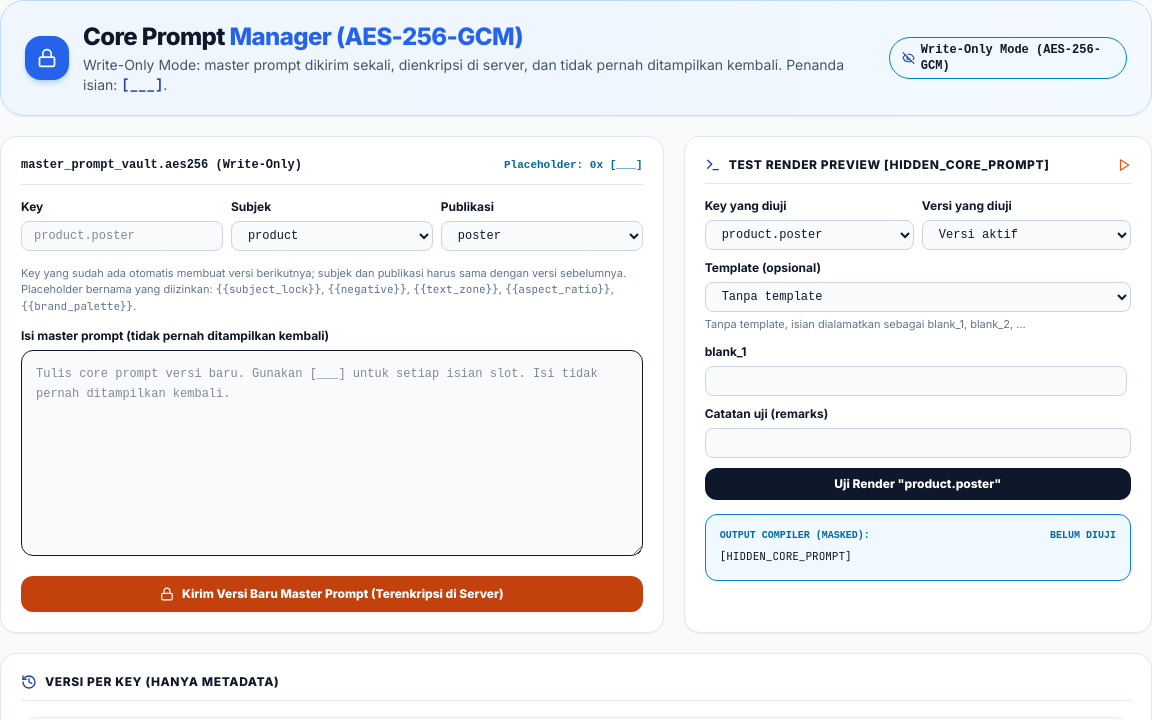
Scenario: CorePromptManager is write-only › shows only metadata and the masked literal in the versions list and the test render
This screenshot has width=1152, height=720.
Check: the column heading does not show "Isi"
Click the button "Uji Render \"product.poster\"": (918, 484) [705,468,1131,500]
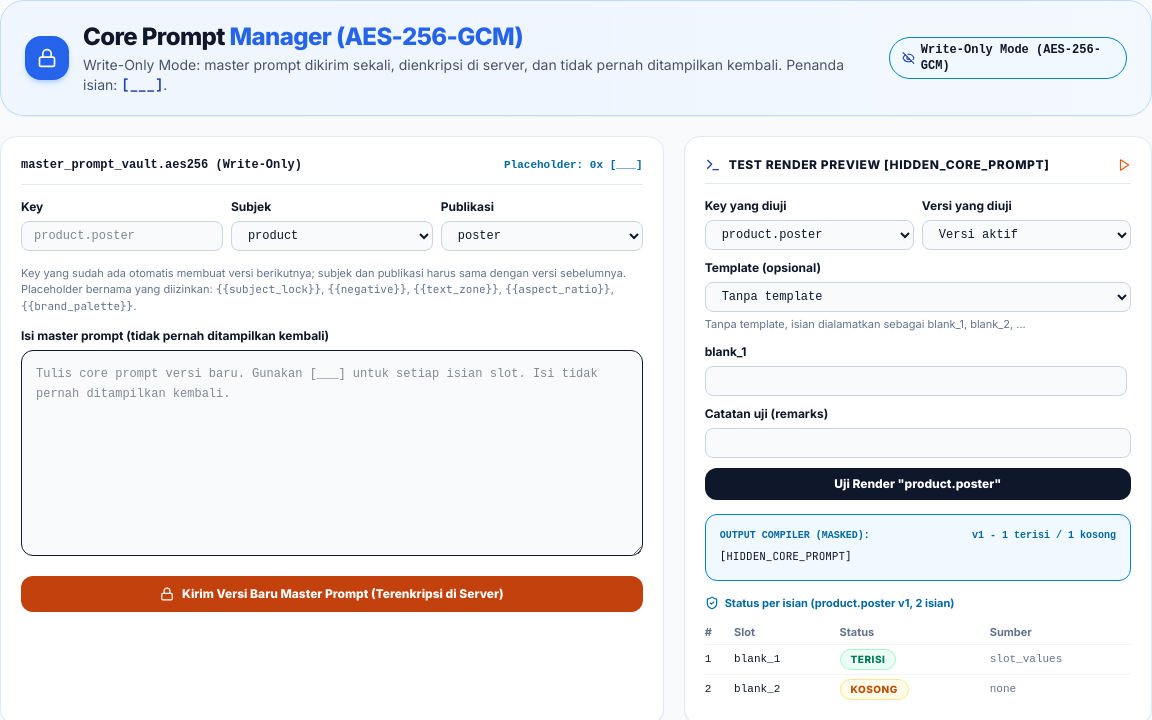
Check: the element with test id "masked-output" shows "1 terisi / 1 kosong", box [972,530,1116,541]
Check: the text "Terisi" is shown, box [840,649,896,670]
Check: the text "Kosong" is shown, box [840,679,909,700]
